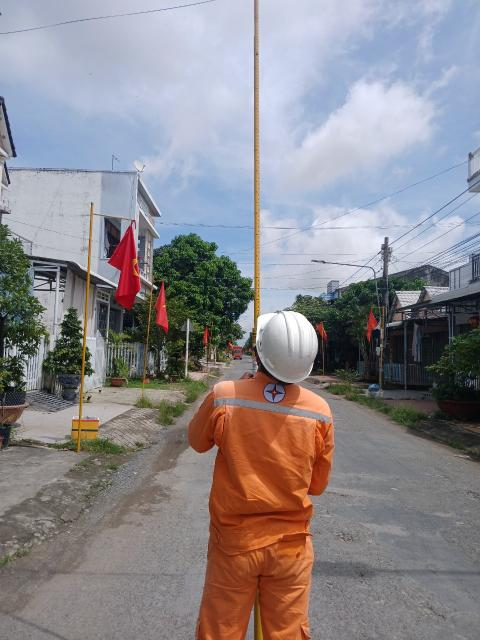helmet: (243, 294, 328, 387)
